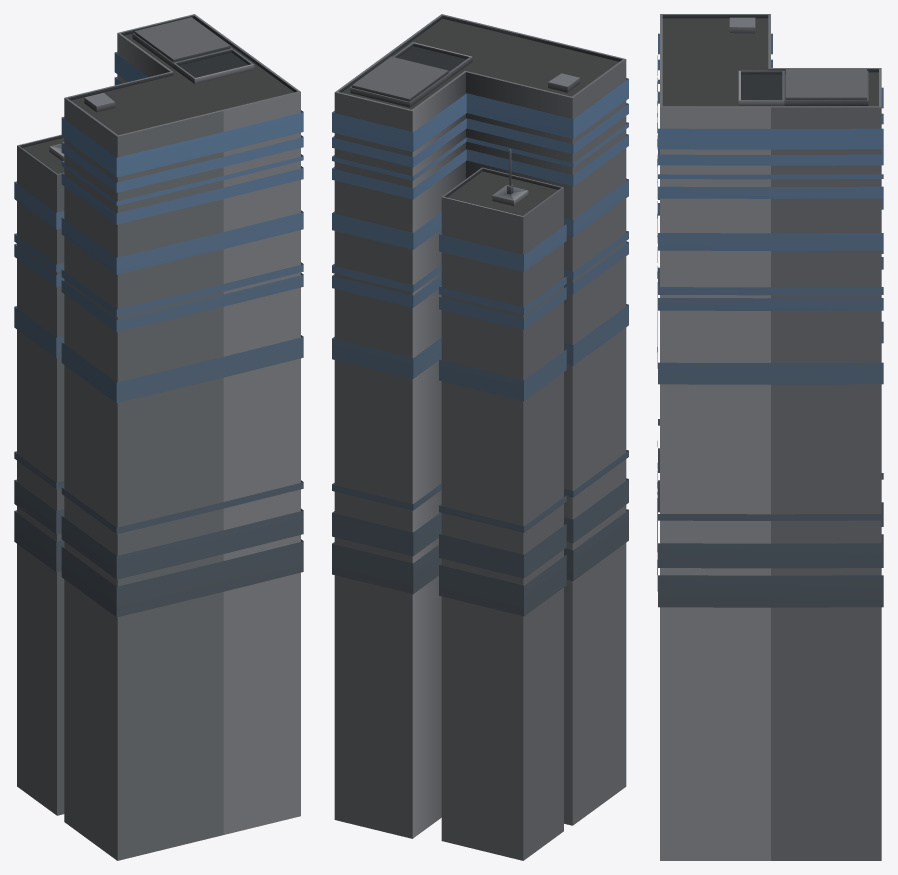
File: Industrial_ModernSkyscraper_alt04.glb
3 renders of one model, left to right at view 1: azimuth 30°, elevation 25°; view 2: azimuth 150°, elevation 25°; view 3: azimuth 270°, elevation 25°, orthographic. The views are drawn at different scales.
Parts seen in each view (by area): view 1: base.042, windowRefl.025; view 2: base.042, windowRefl.025; view 3: base.042, windowRefl.025.
Part boxes in pixels (x1,y1,x2,y2): base.042: (17,14,300,860); windowRefl.025: (14,52,303,617); base.042: (334,14,626,860); windowRefl.025: (332,78,628,616); base.042: (660,14,881,860); windowRefl.025: (657,33,883,607).
Bounding box in the file's own units: 21.44 × 79.55 × 21.52.
